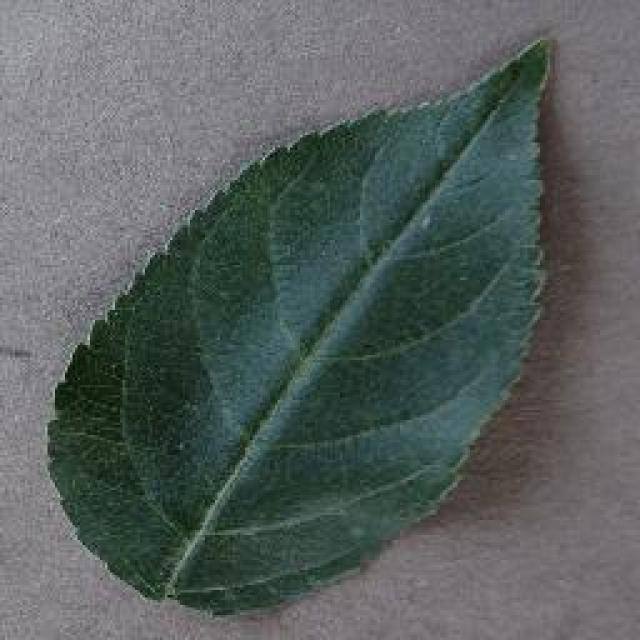apple healthy: (42, 32, 560, 618)
